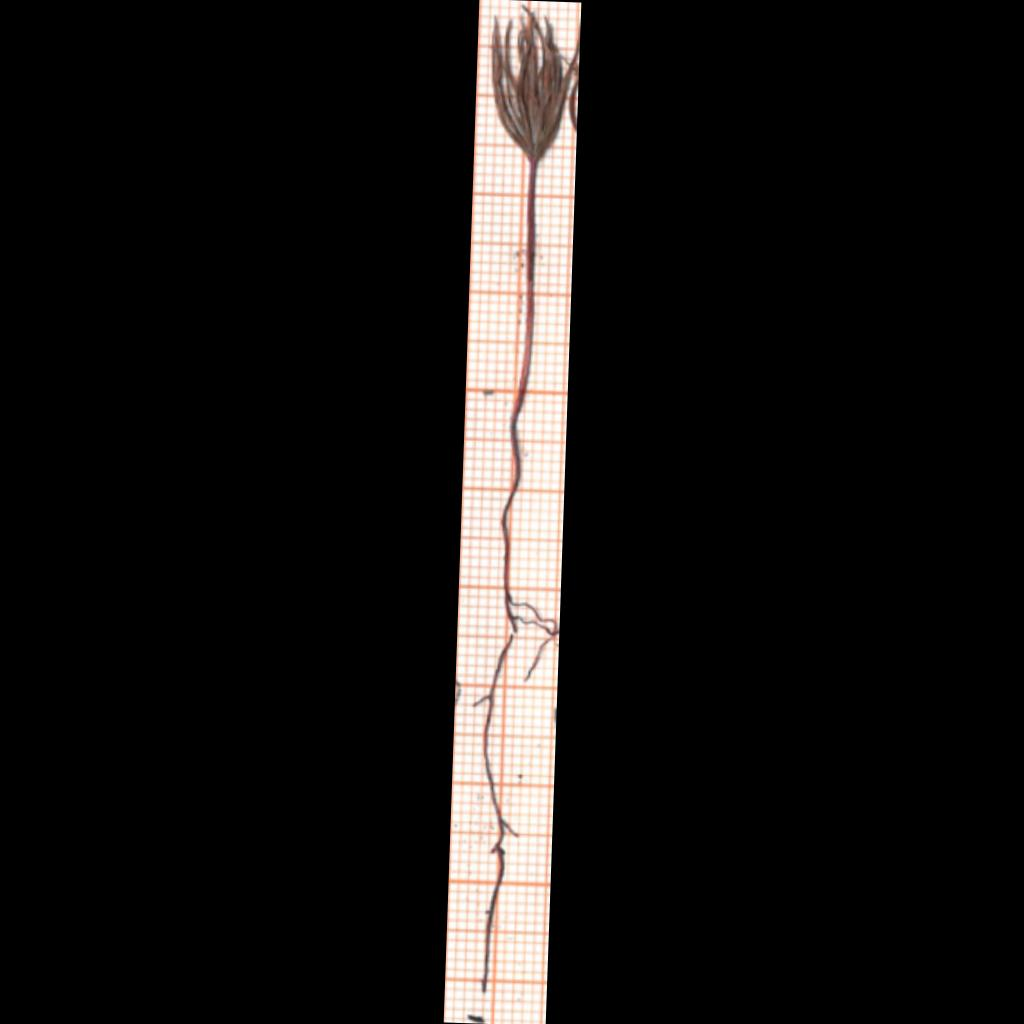flowerPinus: (492, 14, 576, 162)
rootPinus: (476, 407, 559, 992)
stemPinus: (520, 160, 536, 399)
